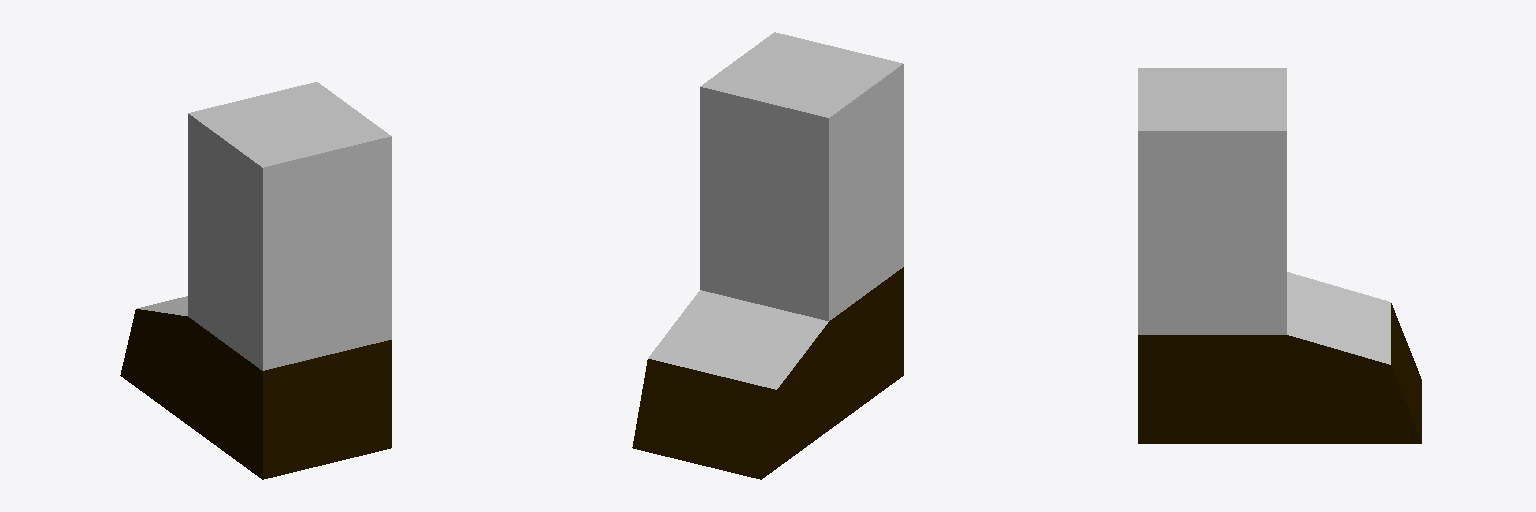
File: leg.obj
The picture shows the model from 3 angles: view 1: azimuth 30°, elevation 25°; view 2: azimuth 150°, elevation 25°; view 3: azimuth 270°, elevation 25°; orthographic projection.
Visible parts, largest first — view 1: Cube.002_Cube.005; view 2: Cube.002_Cube.005; view 3: Cube.002_Cube.005.
Boxes of the visible parts, x1=… form: Cube.002_Cube.005: x1=120, y1=82, x2=391, y2=479; Cube.002_Cube.005: x1=632, y1=32, x2=903, y2=479; Cube.002_Cube.005: x1=1138, y1=68, x2=1421, y2=443.
Bounding box in the file's own units: 0.1369 × 0.3162 × 0.2613.